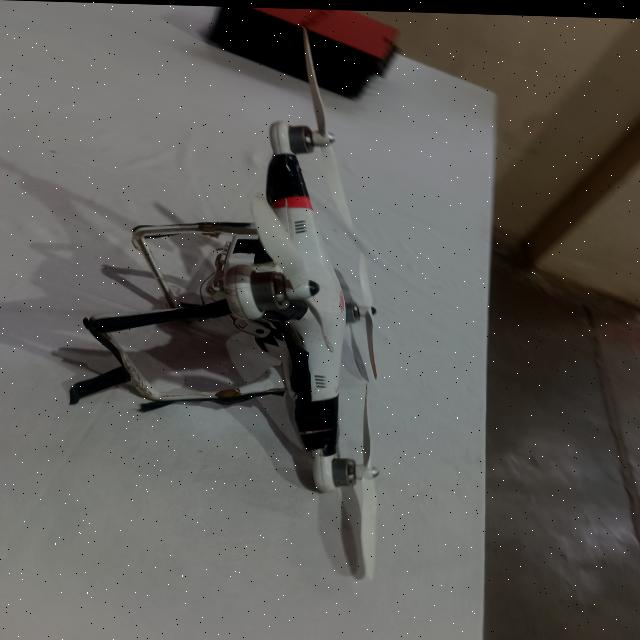drone: (72, 100, 444, 504)
